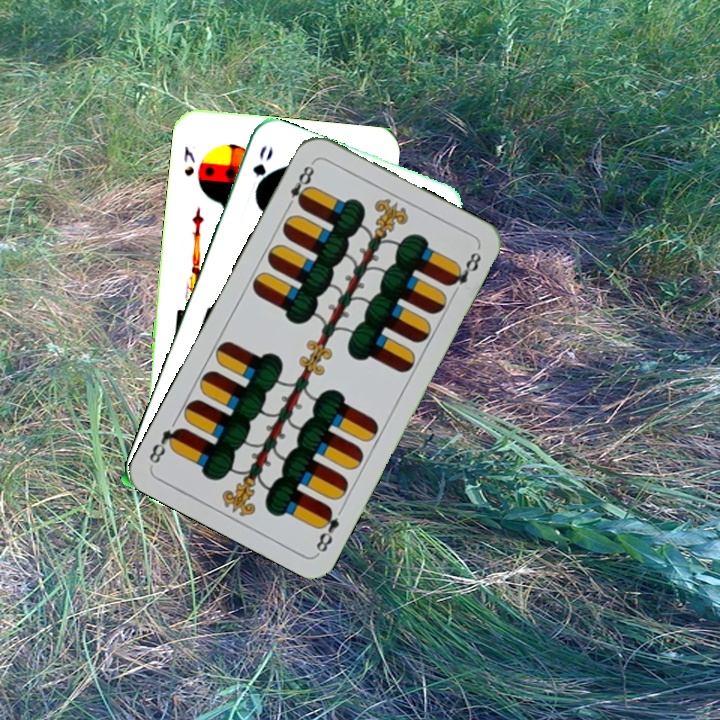E8: (282, 158, 319, 212), (312, 503, 342, 556)
GO: (248, 141, 276, 200)
SK: (179, 142, 198, 179)
